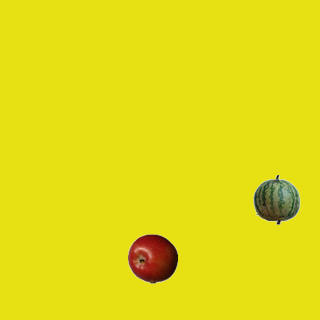Apple Braeburn: (127, 233, 177, 283)
Watermelon: (251, 174, 301, 224)
